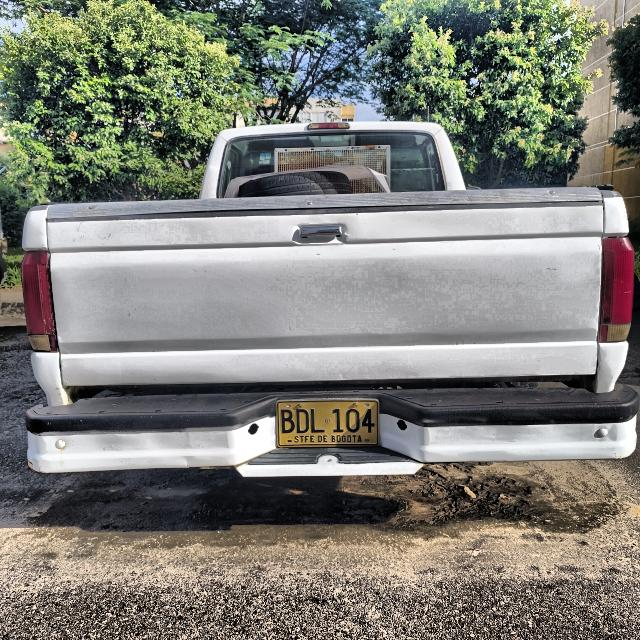plate: (278, 401, 378, 446)
